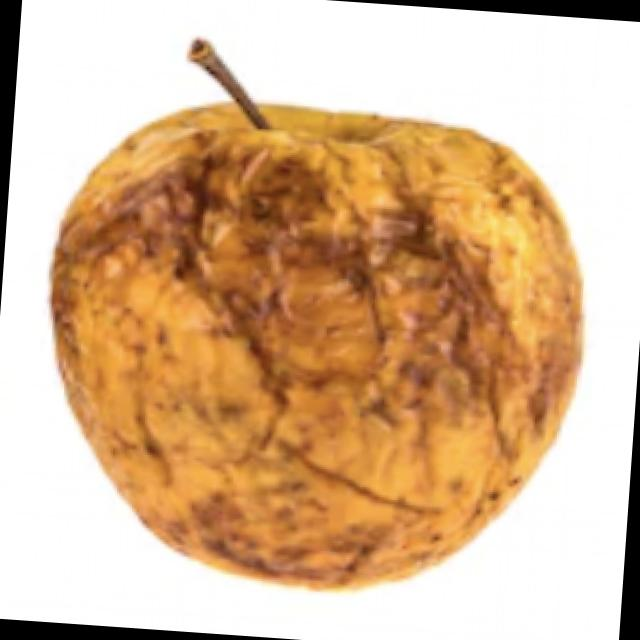rotten_apple: (28, 55, 602, 602)
